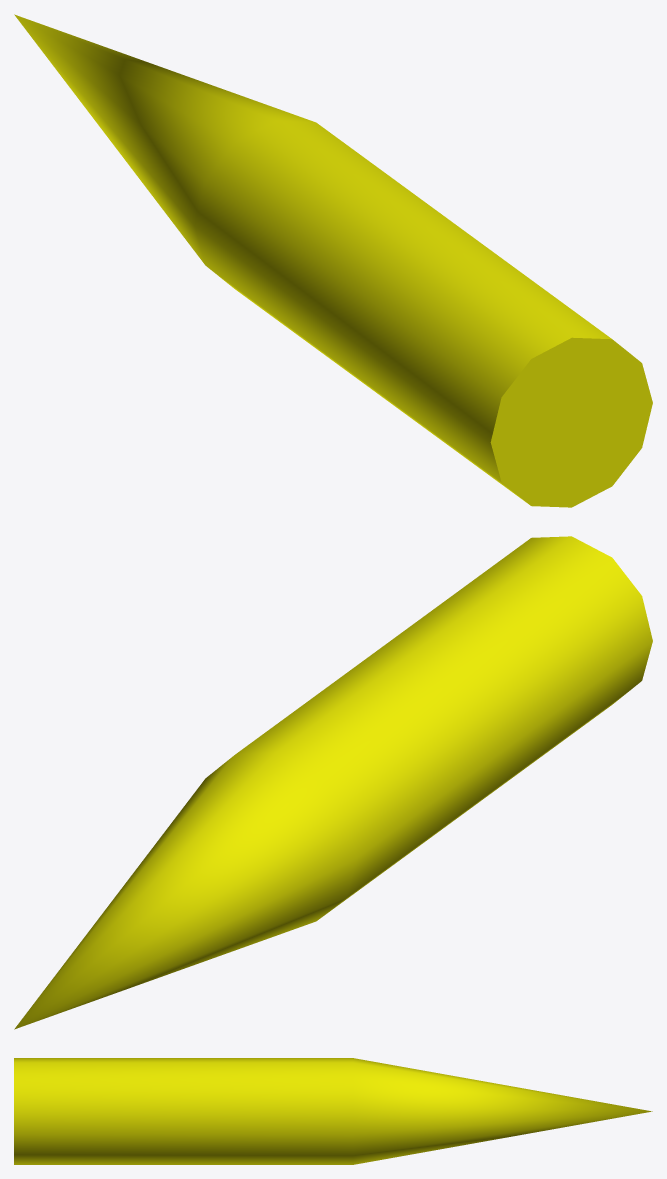
Rendered from SM_AR-15_Bullet.fbx.
The picture shows the model from 3 angles, top to bottom: view 1: azimuth 30°, elevation 25°; view 2: azimuth 150°, elevation 25°; view 3: azimuth 270°, elevation 25°; orthographic projection. The views are drawn at different scales.
Visible parts, largest first — view 1: Cylinder; view 2: Cylinder; view 3: Cylinder.
Part boxes in pixels (x1,y1,x2,y2): Cylinder: [14, 14, 652, 507]; Cylinder: [14, 536, 652, 1029]; Cylinder: [14, 1058, 652, 1164].
Bounding box in the file's own units: 19.57 × 19.57 × 116.
